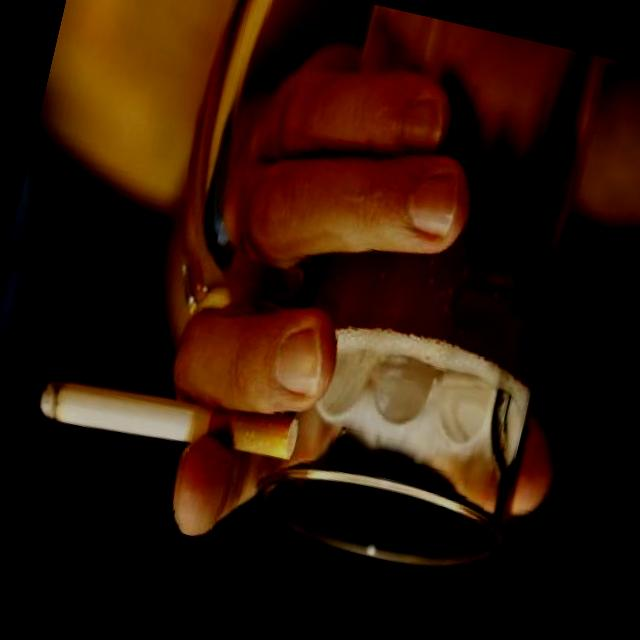cigarette: (14, 12, 463, 579)
